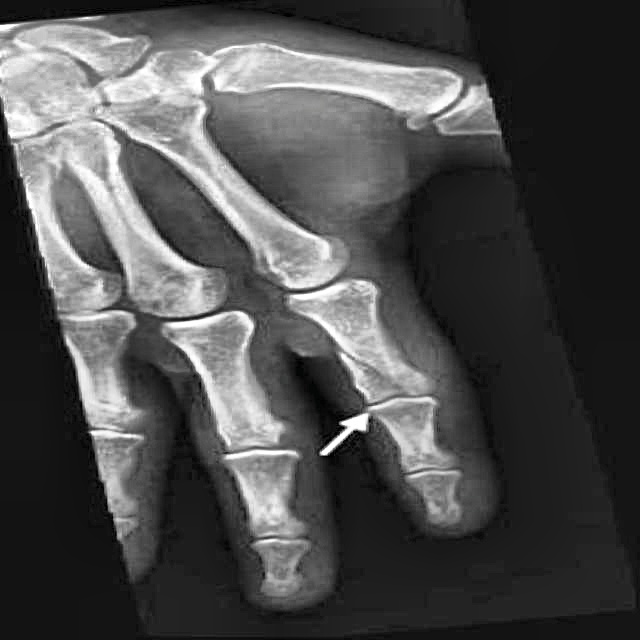Oblique Displaced: (329, 326, 449, 423)
